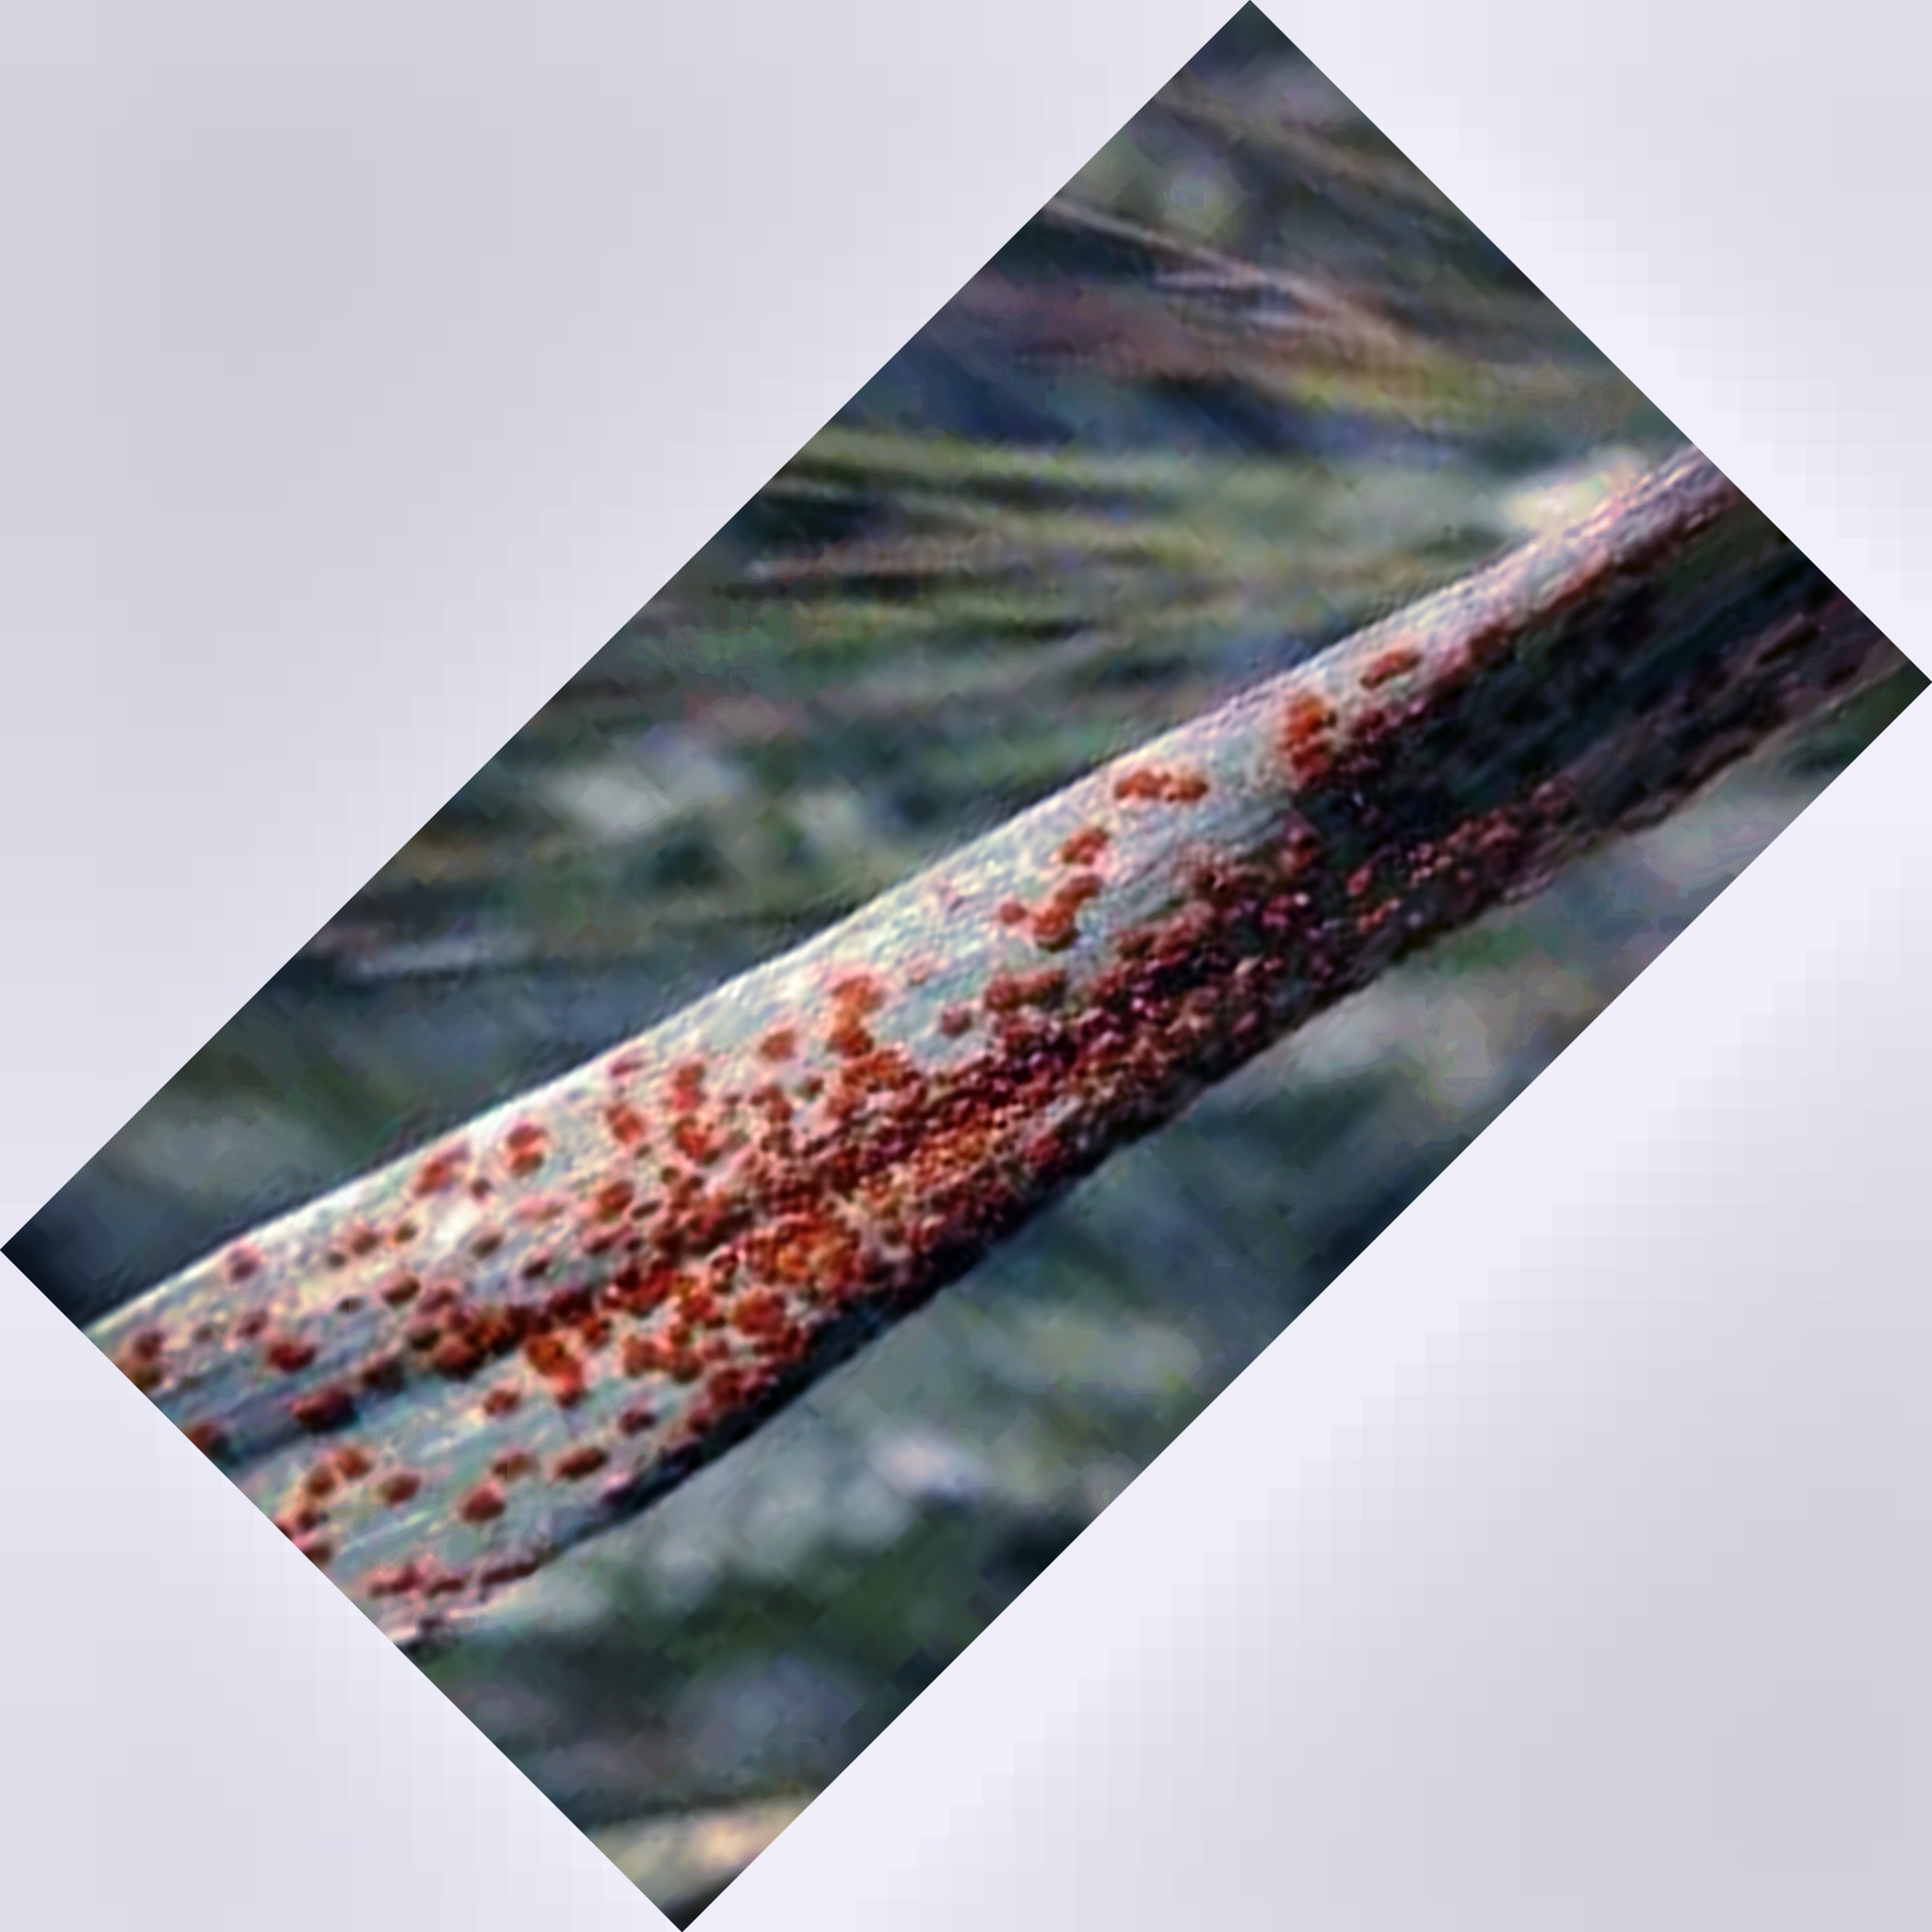Leaf Rust: (379, 600, 1504, 1541)
